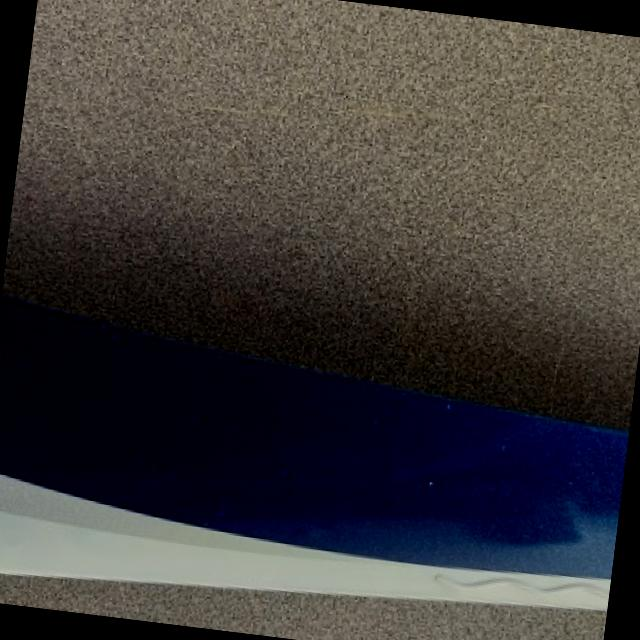healthy: (0, 298, 626, 587), (0, 573, 605, 640)
